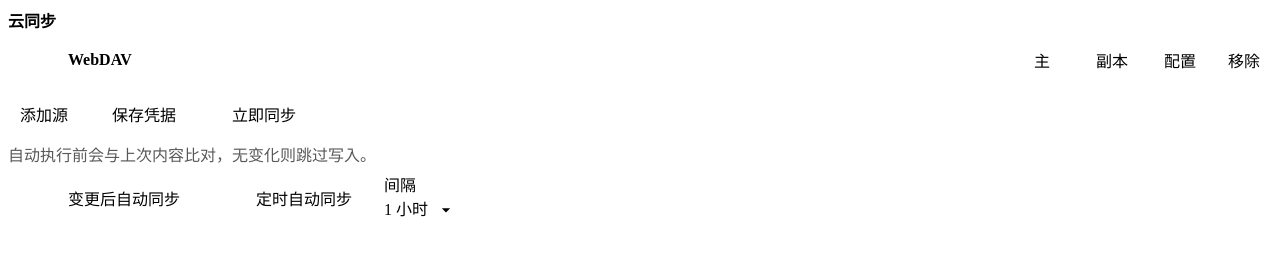
CloudCard（多源） › R2-M3：手动通道错误消息含换行（CloudHttpError bodySnippet 前缀形态）→ 状态行归一单行
Click the button with class "cloud-sync" at x=264, y=114, box x1=208 y1=94 x2=320 y2=134
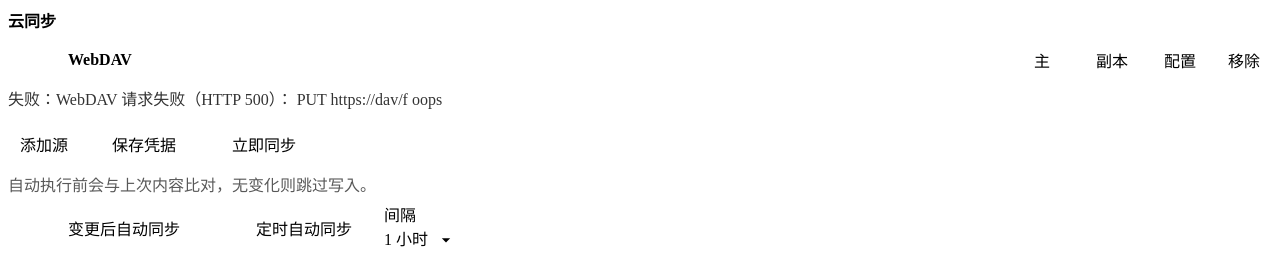
Result: the text with class "target-status" reads "失败：WebDAV 请求失败（HTTP 500）： PUT https://dav/f oops" at x1=8 y1=91 x2=442 y2=108
